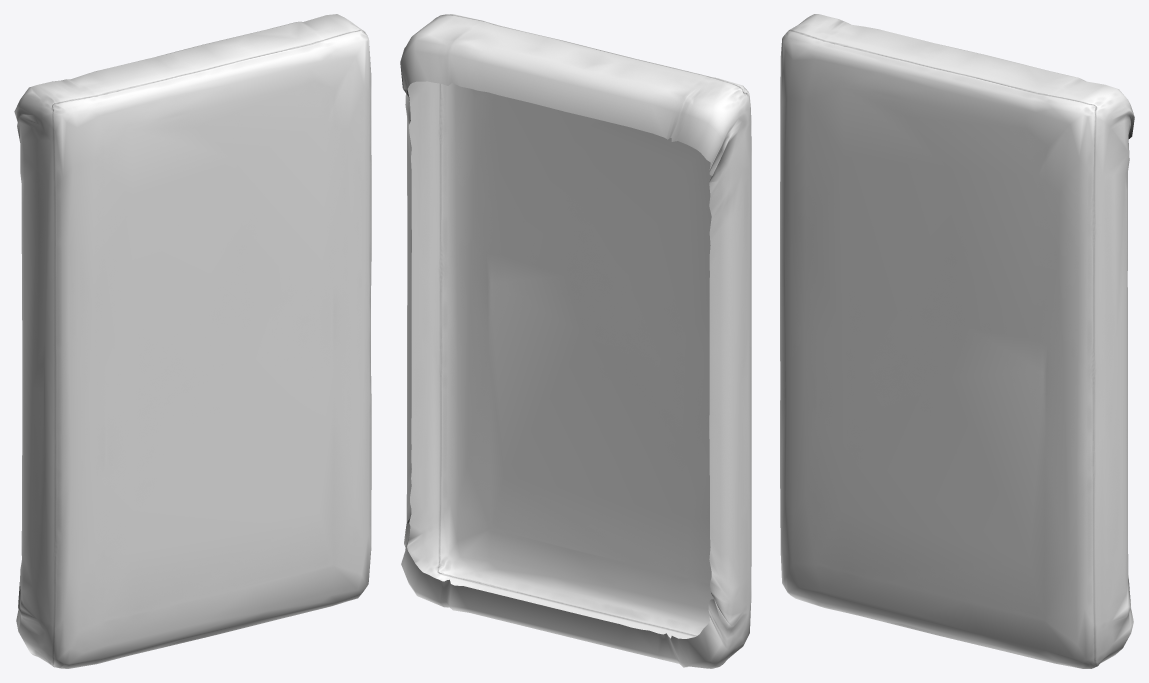
File: BedMattress_2_BedMattress_2_1.obj
3 views of the same model, side by side, from view 1: azimuth 30°, elevation 25°; view 2: azimuth 150°, elevation 25°; view 3: azimuth 330°, elevation 25° (orthographic).
Visible parts, largest first — view 1: BedMattress_2; view 2: BedMattress_2; view 3: BedMattress_2.
Part boxes in pixels (x1,y1,x2,y2): BedMattress_2: (14, 14, 371, 668); BedMattress_2: (400, 14, 751, 668); BedMattress_2: (780, 14, 1134, 668).
Bounding box in the file's own units: 1.18 × 1.96 × 0.2853.
